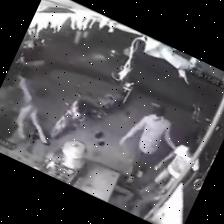person: (119, 106, 175, 182), (151, 143, 197, 195), (16, 74, 48, 145)
